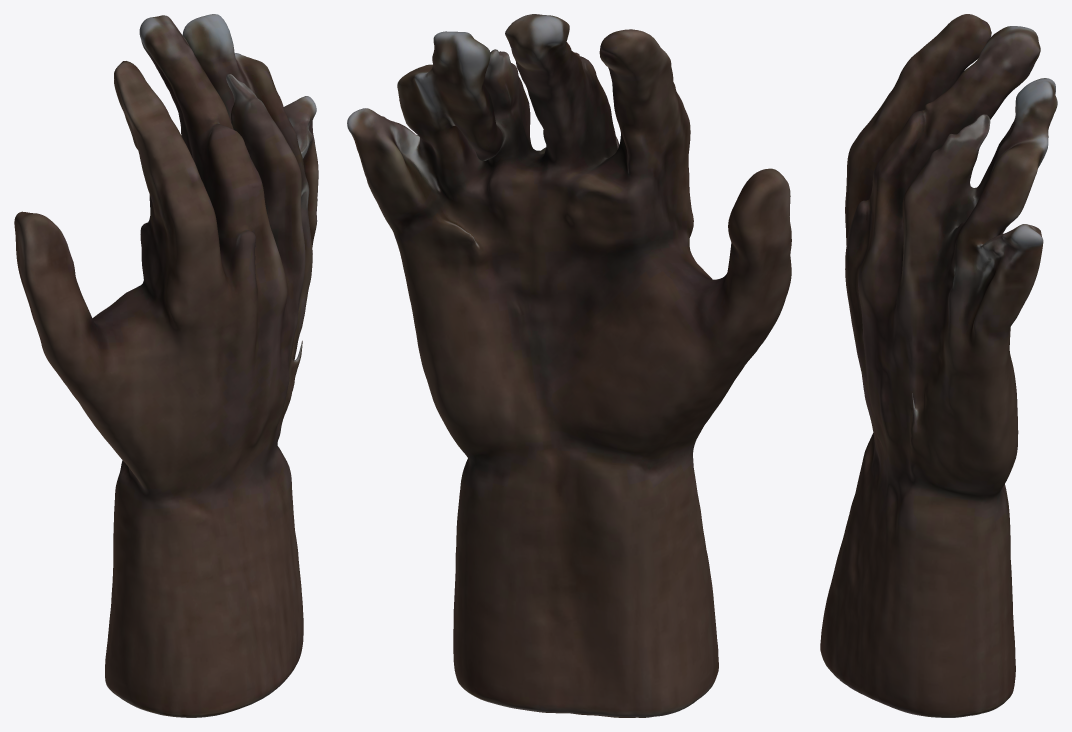
File: d0f6fc6acebd_sculpture_hands__3d.fbx
3 views of the same model, side by side, from view 1: azimuth 30°, elevation 25°; view 2: azimuth 150°, elevation 25°; view 3: azimuth 270°, elevation 25° (orthographic). The views are drawn at different scales.
Parts seen in each view (by area): view 1: high_poly; view 2: high_poly; view 3: high_poly.
Part boxes in pixels (x1=…): high_poly: x1=14, y1=14, x2=318, y2=717; high_poly: x1=347, y1=14, x2=791, y2=717; high_poly: x1=820, y1=14, x2=1057, y2=717.
Size of the model in its own units: 56.8 by 100 by 33.44.
